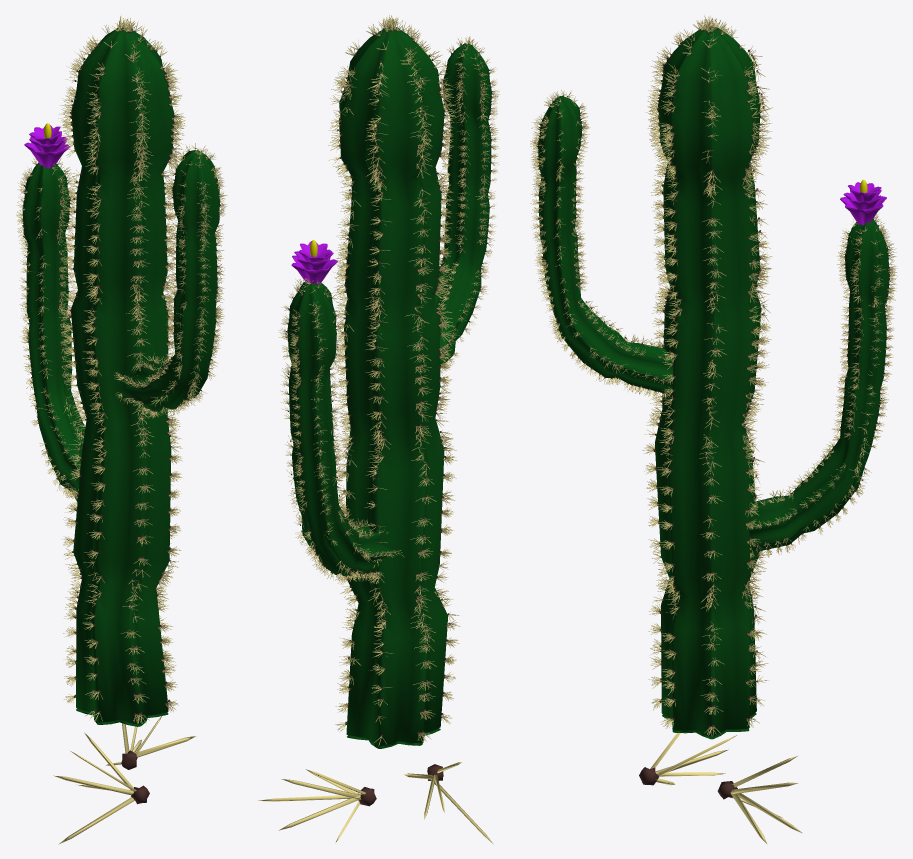
File: cactusperfekt1.fbx
The picture shows the model from 3 angles, left to right: view 1: azimuth 30°, elevation 25°; view 2: azimuth 150°, elevation 25°; view 3: azimuth 270°, elevation 25°; orthographic projection. The views are drawn at different scales.
Parts seen in each view (by area): view 1: Cylinder, Cylinder.005, Cylinder.004, Cube.003, Cube.011, Cylinder.001; view 2: Cylinder, Cylinder.005, Cylinder.004, Cube.011, Cube.003, Cylinder.001; view 3: Cylinder, Cylinder.005, Cylinder.004, Cube.011, Cube.003.
Part boxes in pixels (box(x1,y1,x2,y2)): Cylinder: box(71, 27, 174, 726); Cylinder.005: box(22, 162, 85, 502); Cylinder.004: box(119, 149, 219, 411); Cube.003: box(53, 732, 149, 844); Cube.011: box(105, 716, 196, 769); Cylinder.001: box(24, 136, 69, 168); Cylinder: box(339, 27, 448, 748); Cylinder.005: box(287, 281, 396, 575); Cylinder.004: box(434, 43, 491, 363); Cube.011: box(258, 769, 376, 841); Cube.003: box(404, 762, 493, 844); Cylinder.001: box(291, 255, 337, 284); Cylinder: box(655, 26, 761, 739); Cylinder.005: box(749, 219, 889, 552); Cylinder.004: box(538, 96, 673, 394); Cube.011: box(717, 755, 802, 843); Cube.003: box(639, 733, 736, 785).
Bounding box in the file's own units: 484 × 1987 × 823.
